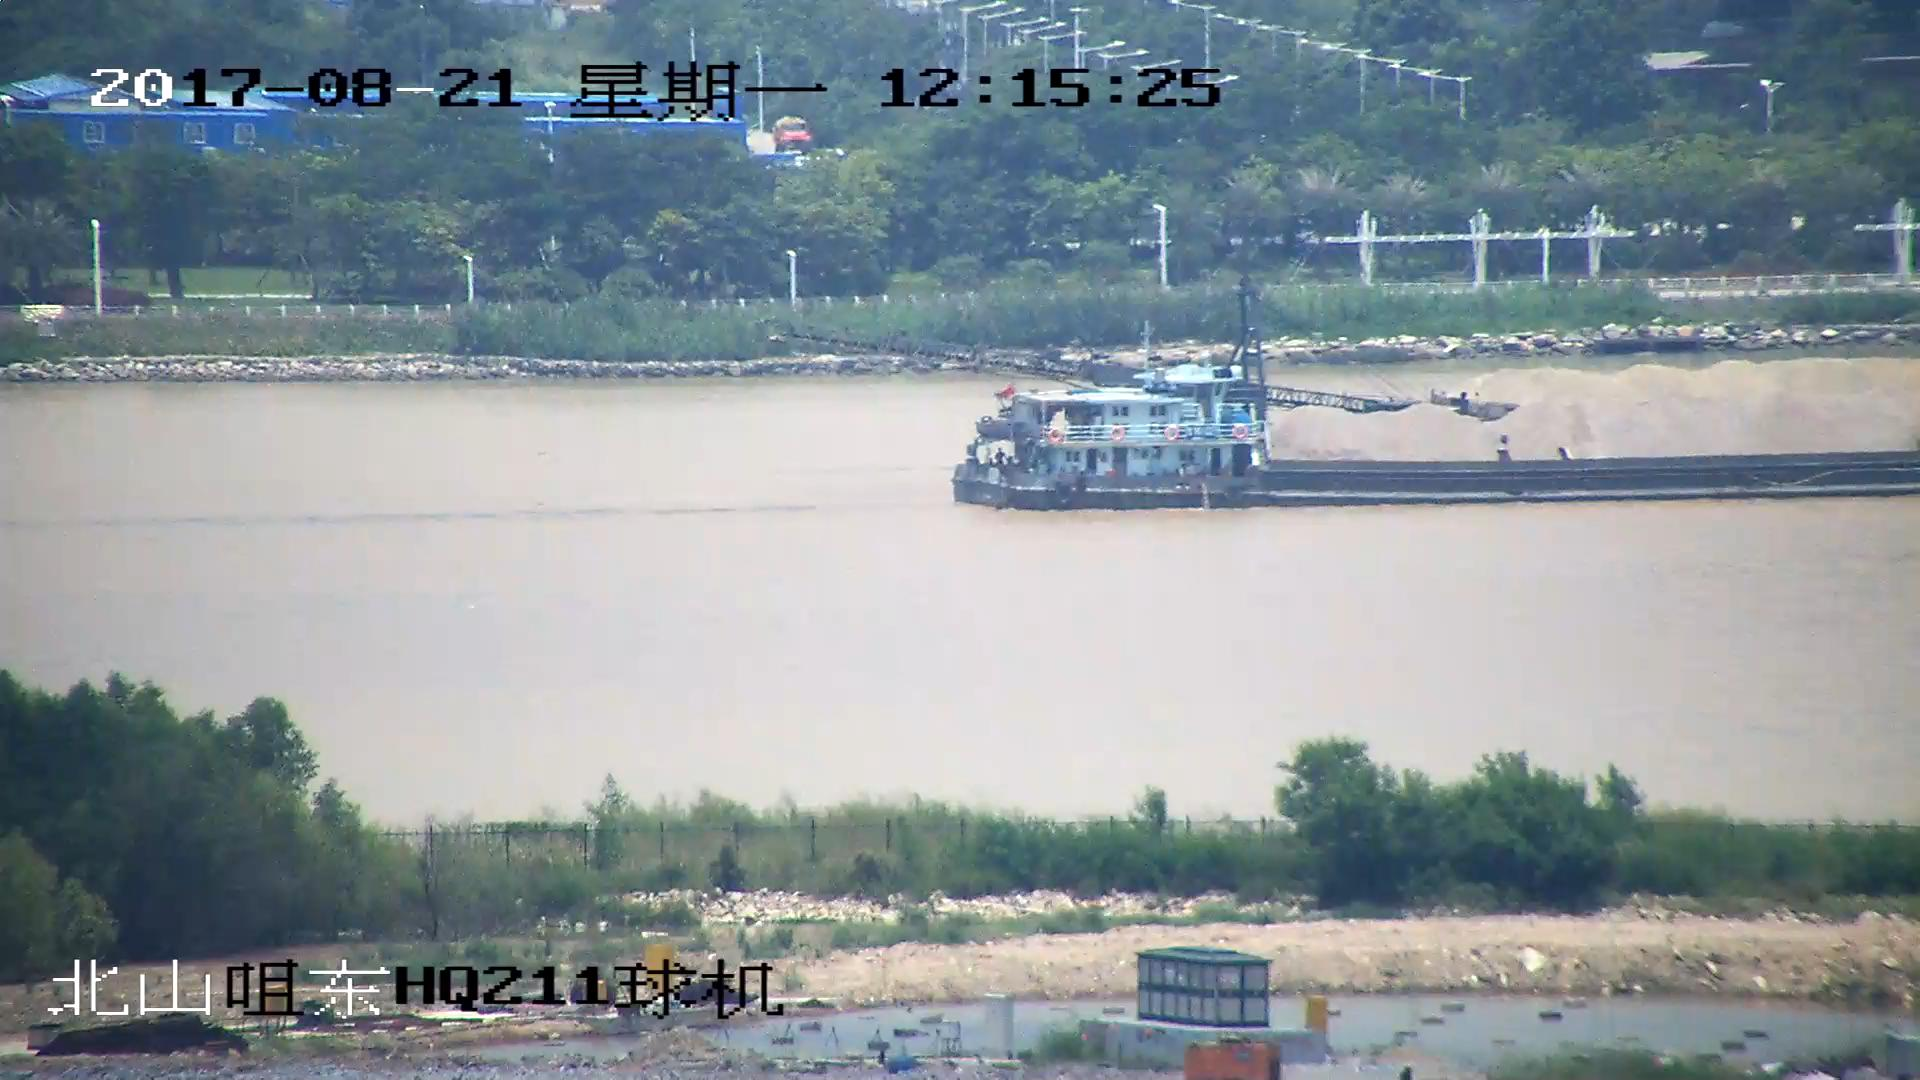ore carrier: (774, 306, 1920, 437), (946, 376, 1920, 512)
